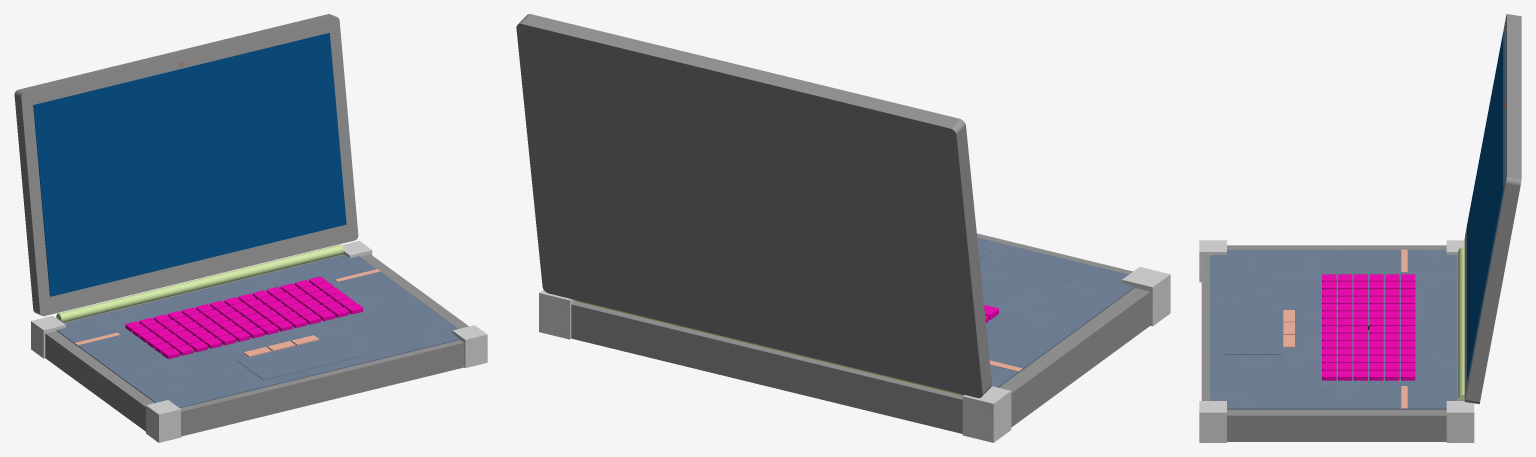
Rendered from Technology_Laptop__0028.glb.
3 views of the same model, side by side, from view 1: azimuth 30°, elevation 25°; view 2: azimuth 150°, elevation 25°; view 3: azimuth 270°, elevation 25° (orthographic). The views are drawn at different scales.
Parts seen in each view (by area): view 1: screen_lid::shell_family__rugged_bumper__display_panel, base_chassis::shell_family__rugged_bumper__palm_deck_skin, screen_lid::shell_family__rugged_bumper__lid_shell, base_chassis::shell_family__rugged_bumper__lower_shell, base_chassis::hinge_style__full_width_barrel__base_barrel, pointing_surface::pointing_system__trackpoint_three_button__, base_chassis::shell_family__rugged_bumper__corner_bumper_3, base_chassis::shell_family__rugged_bumper__corner_bumper_2, base_chassis::shell_family__rugged_bumper__corner_bumper_1; view 2: screen_lid::shell_family__rugged_bumper__lid_shell, base_chassis::shell_family__rugged_bumper__lower_shell, base_chassis::shell_family__rugged_bumper__palm_deck_skin, base_chassis::shell_family__rugged_bumper__corner_bumper_1, base_chassis::shell_family__rugged_bumper__corner_bumper_3, base_chassis::shell_family__rugged_bumper__corner_bumper_0, base_chassis::hinge_style__full_width_barrel__base_barrel; view 3: base_chassis::shell_family__rugged_bumper__palm_deck_skin, base_chassis::shell_family__rugged_bumper__lower_shell, screen_lid::shell_family__rugged_bumper__lid_shell, screen_lid::shell_family__rugged_bumper__display_panel, pointing_surface::pointing_system__trackpoint_three_button__, base_chassis::shell_family__rugged_bumper__corner_bumper_0, base_chassis::shell_family__rugged_bumper__corner_bumper_2, base_chassis::hinge_style__full_width_barrel__base_barrel, base_chassis::shell_family__rugged_bumper__corner_bumper_3.
Part boxes in pixels (<box>): screen_lid::shell_family__rugged_bumper__display_panel: <box>33,33,346,296</box>; base_chassis::shell_family__rugged_bumper__palm_deck_skin: <box>56,255,460,408</box>; screen_lid::shell_family__rugged_bumper__lid_shell: <box>14,14,358,316</box>; base_chassis::shell_family__rugged_bumper__lower_shell: <box>45,254,468,436</box>; base_chassis::hinge_style__full_width_barrel__base_barrel: <box>56,244,343,322</box>; pointing_surface::pointing_system__trackpoint_three_button__: <box>237,337,359,380</box>; base_chassis::shell_family__rugged_bumper__corner_bumper_3: <box>146,400,180,442</box>; base_chassis::shell_family__rugged_bumper__corner_bumper_2: <box>452,325,487,367</box>; base_chassis::shell_family__rugged_bumper__corner_bumper_1: <box>31,315,65,358</box>; screen_lid::shell_family__rugged_bumper__lid_shell: <box>516,14,991,398</box>; base_chassis::shell_family__rugged_bumper__lower_shell: <box>571,233,1150,433</box>; base_chassis::shell_family__rugged_bumper__palm_deck_skin: <box>977,237,1134,387</box>; base_chassis::shell_family__rugged_bumper__corner_bumper_1: <box>962,386,1011,442</box>; base_chassis::shell_family__rugged_bumper__corner_bumper_3: <box>1122,267,1170,326</box>; base_chassis::shell_family__rugged_bumper__corner_bumper_0: <box>539,290,574,339</box>; base_chassis::hinge_style__full_width_barrel__base_barrel: <box>574,300,964,396</box>; base_chassis::shell_family__rugged_bumper__palm_deck_skin: <box>1210,250,1457,409</box>; base_chassis::shell_family__rugged_bumper__lower_shell: <box>1201,245,1458,441</box>; screen_lid::shell_family__rugged_bumper__lid_shell: <box>1464,14,1521,404</box>; screen_lid::shell_family__rugged_bumper__display_panel: <box>1467,32,1504,379</box>; pointing_surface::pointing_system__trackpoint_three_button__: <box>1224,303,1281,354</box>; base_chassis::shell_family__rugged_bumper__corner_bumper_0: <box>1446,401,1474,442</box>; base_chassis::shell_family__rugged_bumper__corner_bumper_2: <box>1199,401,1226,442</box>; base_chassis::hinge_style__full_width_barrel__base_barrel: <box>1458,247,1464,400</box>; base_chassis::shell_family__rugged_bumper__corner_bumper_3: <box>1199,240,1226,282</box>.
Bounding box in the file's own units: 0.384 × 0.2747 × 0.3035.
Materials: 9 (3 with a texture image).
